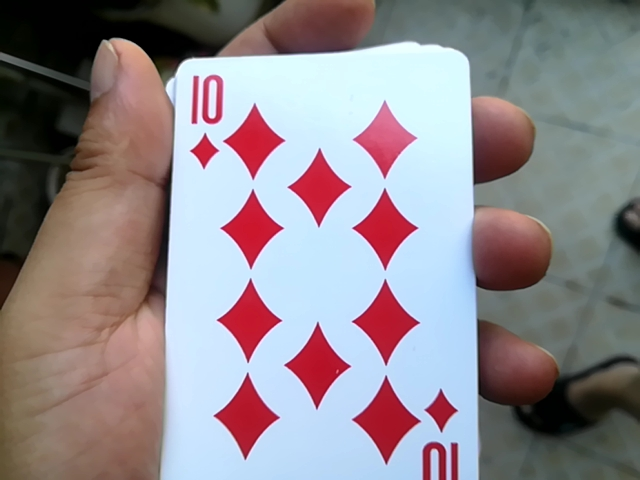fk 10: (151, 38, 468, 478)
